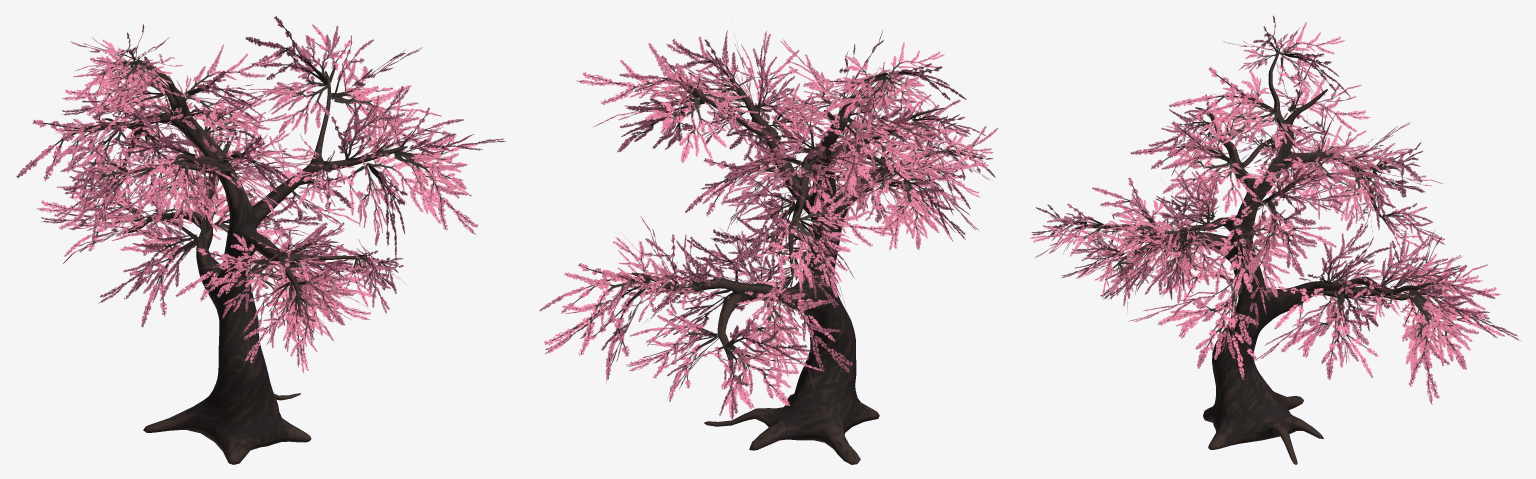
The model's file is sakura.glb.
3 views of the same model, side by side, from view 1: azimuth 30°, elevation 25°; view 2: azimuth 150°, elevation 25°; view 3: azimuth 270°, elevation 25° (orthographic). The views are drawn at different scales.
Visible parts, largest first — view 1: treee_0, bush.001_2, bush.008_9, bush.011_17, bush.015_21, bush.021_27, bush.009_15, bush.012_18, bush.002_3, bush.006_7, bush.004_5, bush.018_22 (+28 smaller); view 2: treee_0, bush.004_5, bush.015_21, bush.017_24, bush_1, bush.002_3, bush.011_17, bush.008_9, bush.014_20, bush.007_8, bush.016_23, bush.019_25 (+28 smaller); view 3: treee_0, bush_1, bush.024_12, bush.019_25, bush.002_3, bush.018_22, bush.021_27, bush.025_28, bush.012_18, bush.001_2, bush.011_17, bush.014_20 (+28 smaller).
Part boxes in pixels (x1,y1,x2,y2): treee_0: [104, 56, 407, 464]; bush.001_2: [394, 107, 505, 234]; bush.008_9: [90, 189, 198, 327]; bush.011_17: [233, 16, 350, 134]; bush.015_21: [16, 92, 149, 198]; bush.021_27: [161, 44, 282, 137]; bush.009_15: [175, 233, 303, 318]; bush.012_18: [331, 153, 445, 257]; bush.002_3: [331, 35, 442, 164]; bush.006_7: [126, 158, 219, 231]; bush.004_5: [62, 53, 168, 151]; bush.018_22: [189, 134, 318, 215]; treee_0: [631, 72, 958, 464]; bush.004_5: [816, 80, 943, 203]; bush.015_21: [755, 189, 896, 306]; bush.017_24: [694, 306, 823, 419]; bush_1: [539, 263, 651, 382]; bush.002_3: [577, 43, 705, 152]; bush.011_17: [629, 56, 765, 162]; bush.008_9: [744, 281, 852, 387]; bush.014_20: [811, 55, 924, 138]; bush.007_8: [879, 176, 965, 250]; bush.016_23: [626, 308, 718, 401]; bush.019_25: [626, 234, 748, 345]; treee_0: [1070, 52, 1421, 464]; bush_1: [1402, 264, 1520, 404]; bush.024_12: [1129, 256, 1271, 379]; bush.019_25: [1255, 285, 1378, 379]; bush.002_3: [1206, 174, 1336, 296]; bush.018_22: [1130, 113, 1256, 212]; bush.021_27: [1169, 67, 1305, 149]; bush.025_28: [1203, 209, 1316, 313]; bush.012_18: [1118, 200, 1224, 296]; bush.001_2: [1107, 211, 1199, 299]; bush.011_17: [1250, 146, 1379, 214]; bush.014_20: [1274, 22, 1350, 96].
Size of the model in its own units: 2.38 by 2.43 by 3.01.
Materials: 4 (4 with a texture image).
